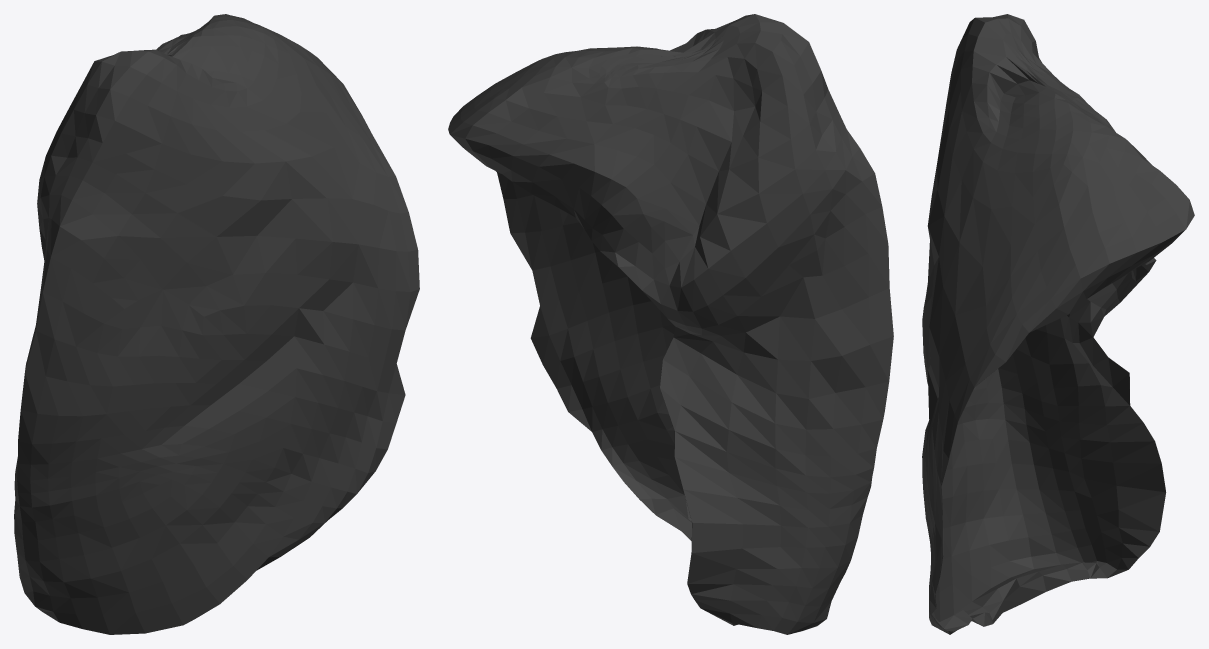
The model's file is Lung_R_cranial_lobe.glb.
3 renders of one model, left to right at view 1: azimuth 30°, elevation 25°; view 2: azimuth 150°, elevation 25°; view 3: azimuth 270°, elevation 25°, orthographic. The views are drawn at different scales.
Parts seen in each view (by area): view 1: Lung_R_cranial_lobe; view 2: Lung_R_cranial_lobe; view 3: Lung_R_cranial_lobe.
Boxes of the visible parts, box(x1,y1,x2,y2) form: Lung_R_cranial_lobe: box(14, 14, 419, 634); Lung_R_cranial_lobe: box(448, 14, 893, 634); Lung_R_cranial_lobe: box(922, 14, 1194, 634).
Bounding box in the file's own units: 0.6303 × 0.8936 × 0.3638.
Materials: 1 (1 with a texture image).
